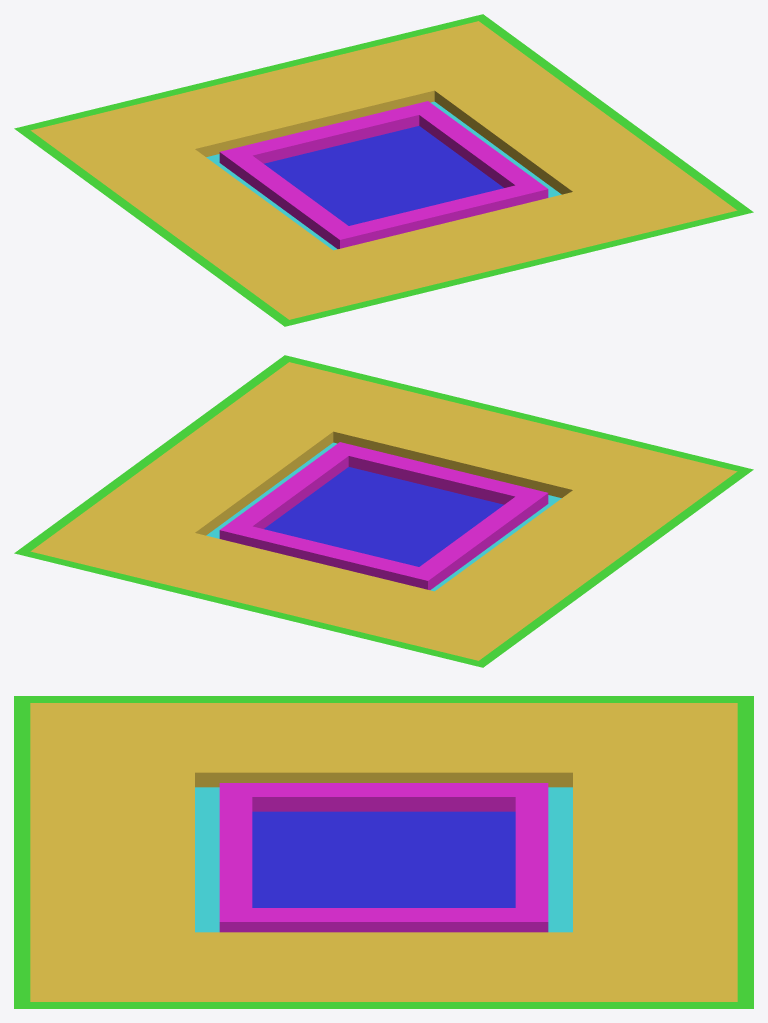
Rendered from Floor_013_G_03.fbx.
3 renders of one model, top to bottom at view 1: azimuth 30°, elevation 25°; view 2: azimuth 150°, elevation 25°; view 3: azimuth 270°, elevation 25°, orthographic. The views are drawn at different scales.
Parts seen in each view (by area): view 1: Floor_013_G_03; view 2: Floor_013_G_03; view 3: Floor_013_G_03.
Part boxes in pixels (x1,y1,x2,y2): Floor_013_G_03: [14, 14, 753, 326]; Floor_013_G_03: [14, 355, 753, 667]; Floor_013_G_03: [14, 696, 753, 1008].
Bounding box in the file's own units: 114 × 12.7 × 114.
